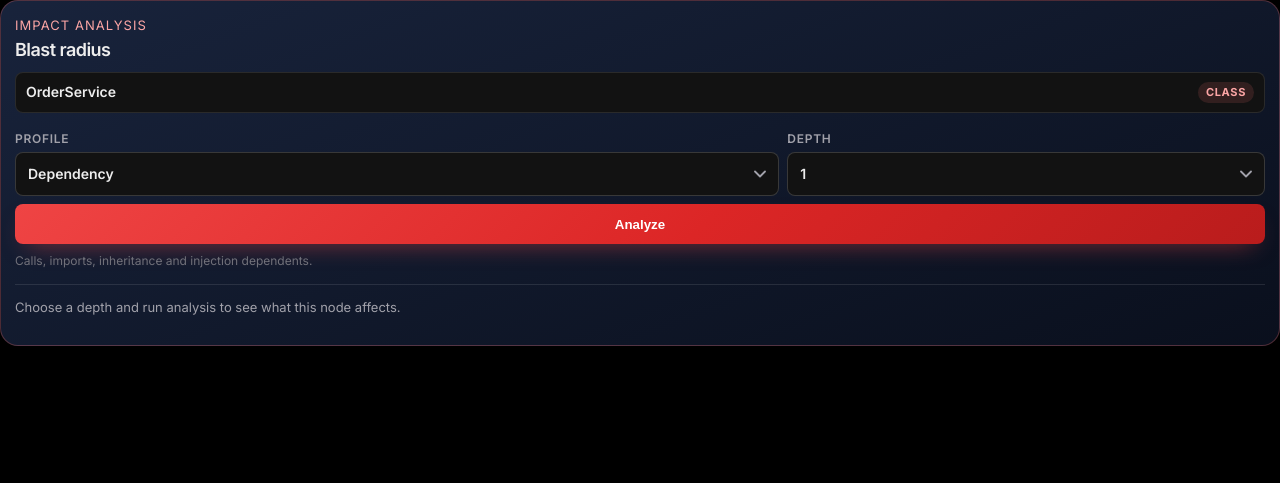
ImpactAnalysisPanel › invalidates a shown result when the depth selector changes (no stale numbers)
The image size is (1280, 483).
Submit the form, box [15,129,1265,244]
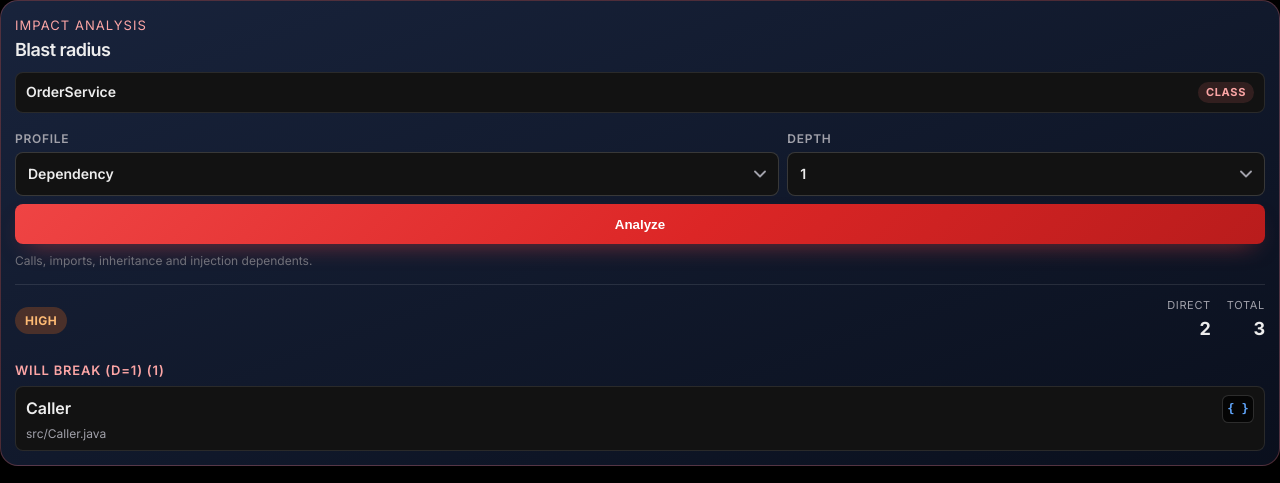
Expected: the text "Will break" is shown, [15,362,164,378]
Click the button with id "impact-depth": (803, 173) [787,152,1265,196]
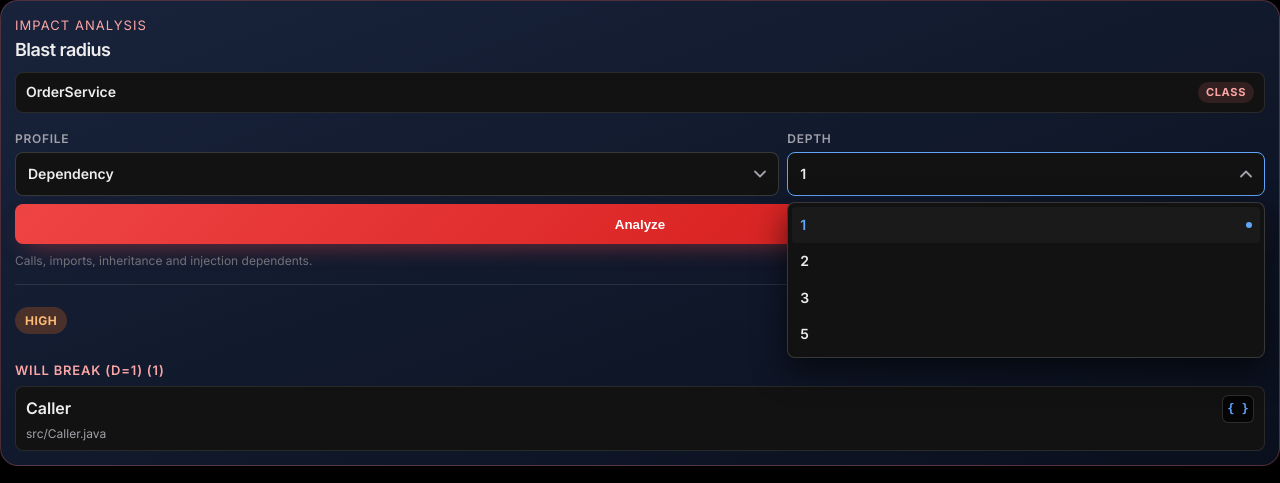
Click the option "3": (805, 297) [800,289,810,306]
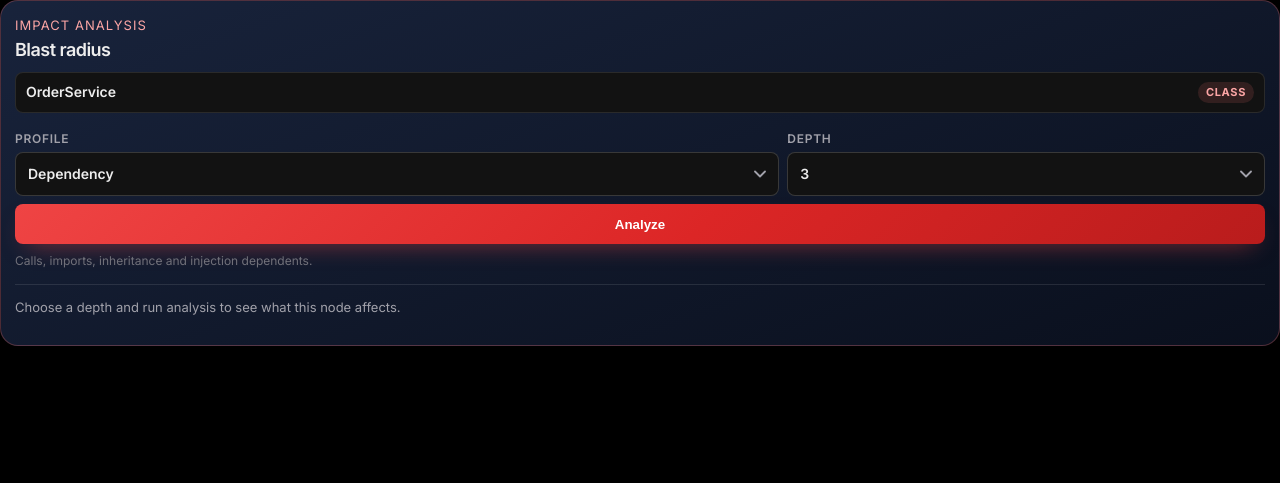
Expected: the text "Will break" is gone
Expected: the text "Choose a depth and run analysis" is shown, [15,299,401,315]
